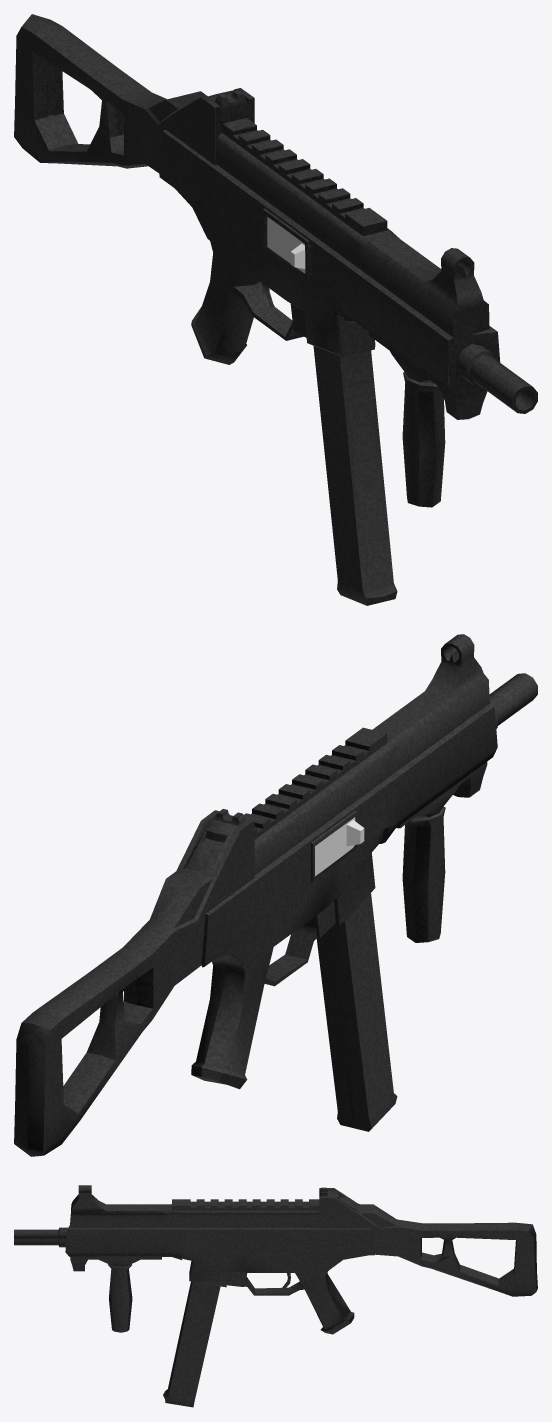
Rendered from Submachine Gun.fbx.
3 renders of one model, top to bottom at view 1: azimuth 30°, elevation 25°; view 2: azimuth 150°, elevation 25°; view 3: azimuth 270°, elevation 25°, orthographic. The views are drawn at different scales.
Visible parts, largest first — view 1: UMP Apply, UMP Apply.001, Slider; view 2: UMP Apply, UMP Apply.001, Slider; view 3: UMP Apply, UMP Apply.001.
Part boxes in pixels (<box>): UMP Apply: <box>14,14,537,507</box>; UMP Apply.001: <box>313,346,397,605</box>; Slider: <box>267,217,305,273</box>; UMP Apply: <box>14,634,537,1156</box>; UMP Apply.001: <box>316,893,397,1131</box>; Slider: <box>315,817,364,876</box>; UMP Apply: <box>14,1185,537,1334</box>; UMP Apply.001: <box>163,1281,220,1407</box>.
Size of the model in its own units: 5.38 by 35.74 by 77.9.
